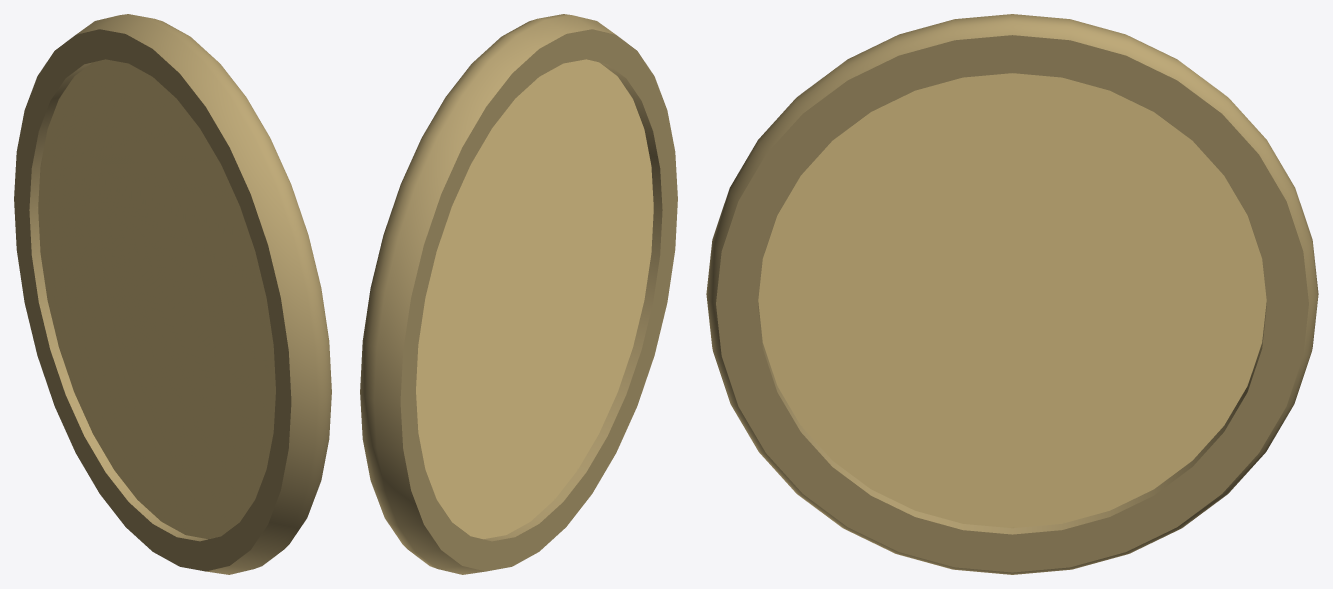
Rendered from PiecesAzteque.fbx.
3 renders of one model, left to right at view 1: azimuth 30°, elevation 25°; view 2: azimuth 150°, elevation 25°; view 3: azimuth 270°, elevation 25°, orthographic. The views are drawn at different scales.
Parts seen in each view (by area): view 1: Circle.116; view 2: Circle.116; view 3: Circle.116.
Part boxes in pixels (x1=…): Circle.116: x1=14, y1=14, x2=331, y2=574; Circle.116: x1=360, y1=14, x2=677, y2=574; Circle.116: x1=706, y1=14, x2=1318, y2=574.
Size of the model in its own units: 8.67 by 106 by 106.
